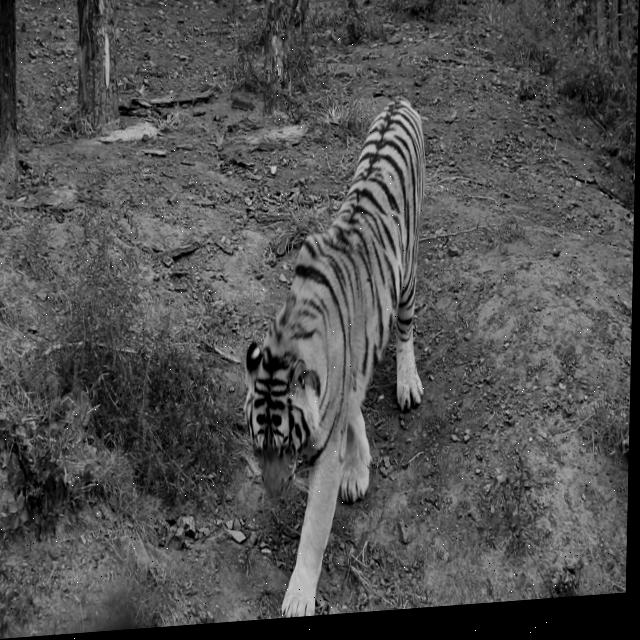Tiger: (238, 92, 431, 620)
